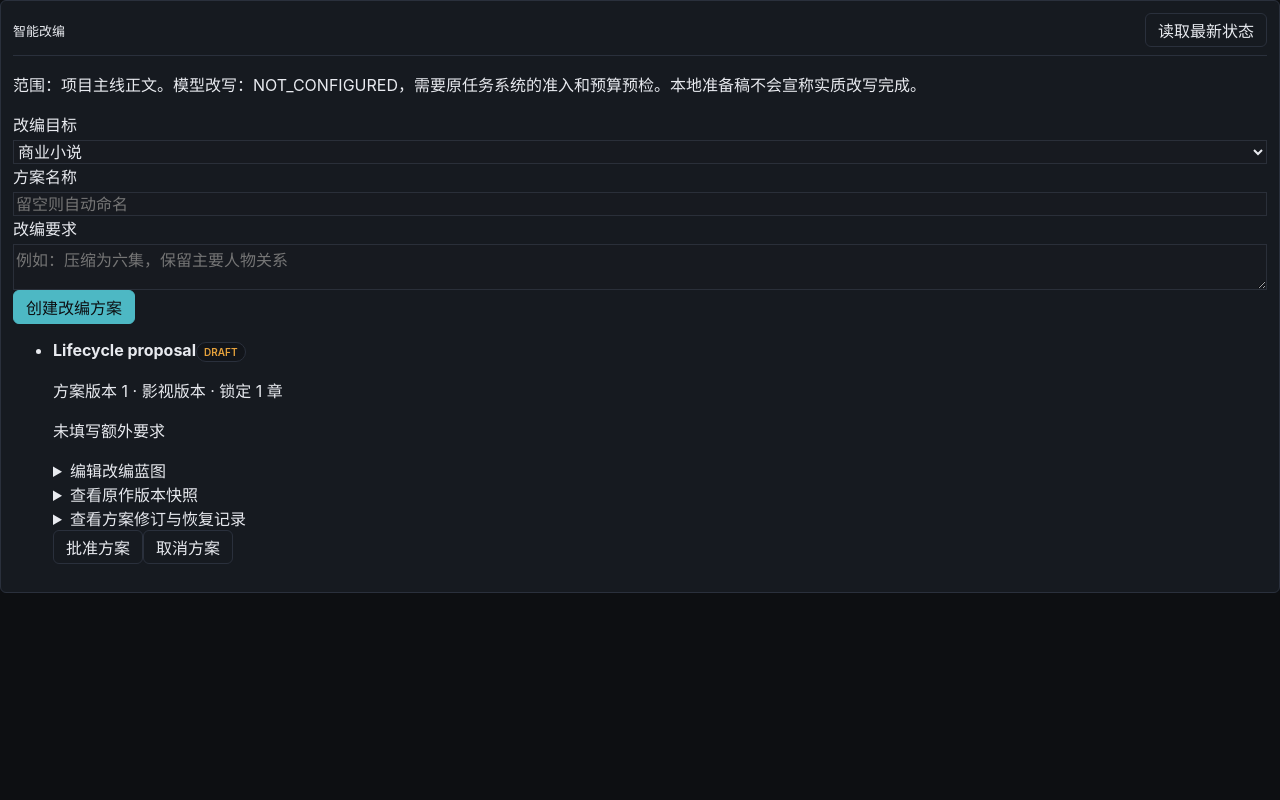
Test: keeps proposal commands locked through delayed query invalidation
The image size is (1280, 800).
Expected: the text "Lifecycle proposal" is shown, [53,340,196,360]
Click the button "批准方案".
click(98, 547)  # box [53,530,143,564]
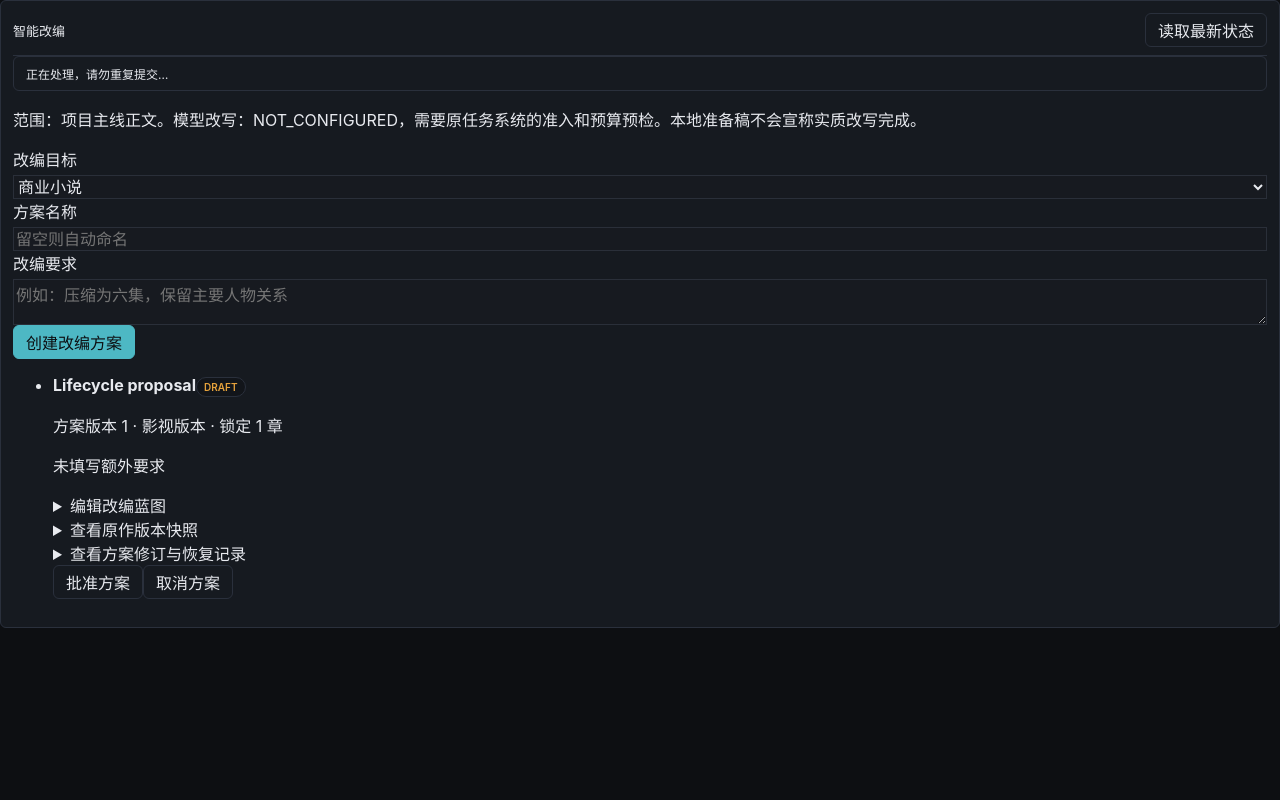
Expected: the button "批准方案" is disabled
Click the button "批准方案".
click(98, 582)  # box [53,565,143,599]
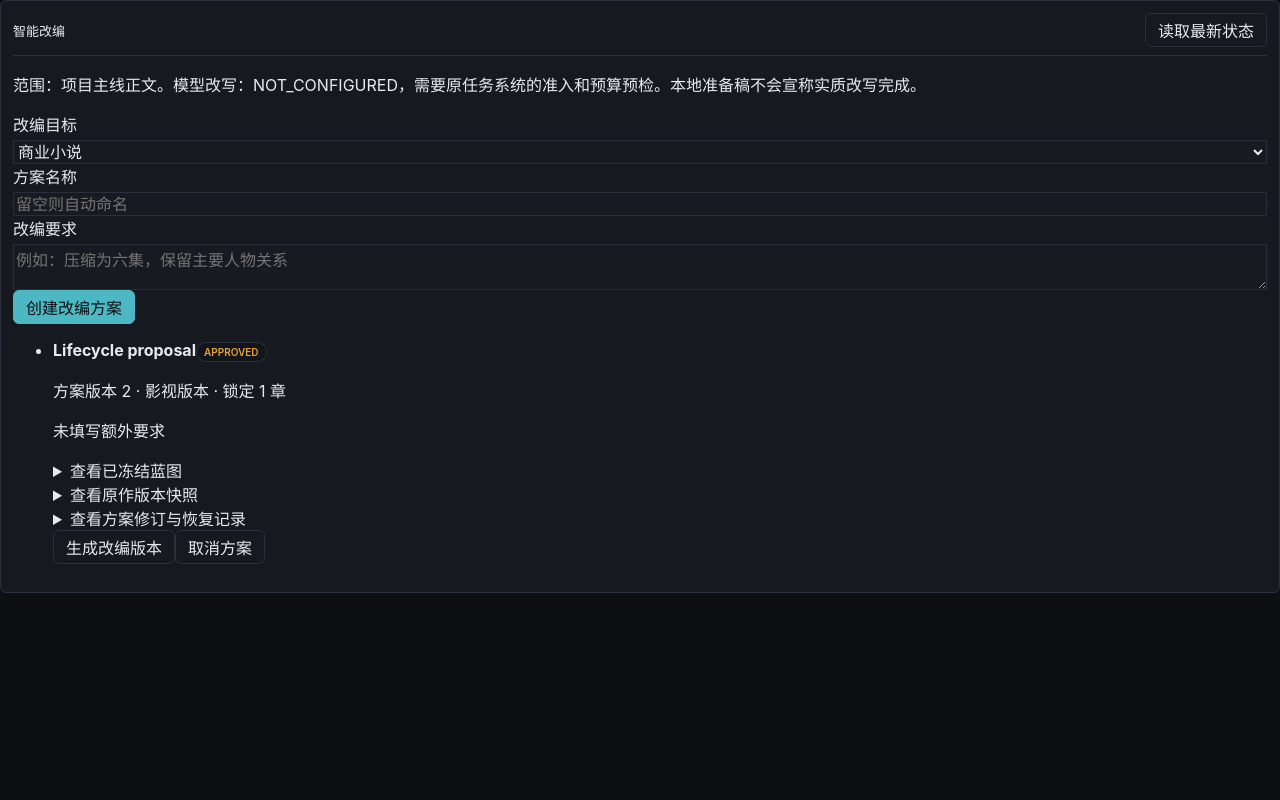
Expected: the button "生成改编版本" is enabled, [53,530,175,564]
